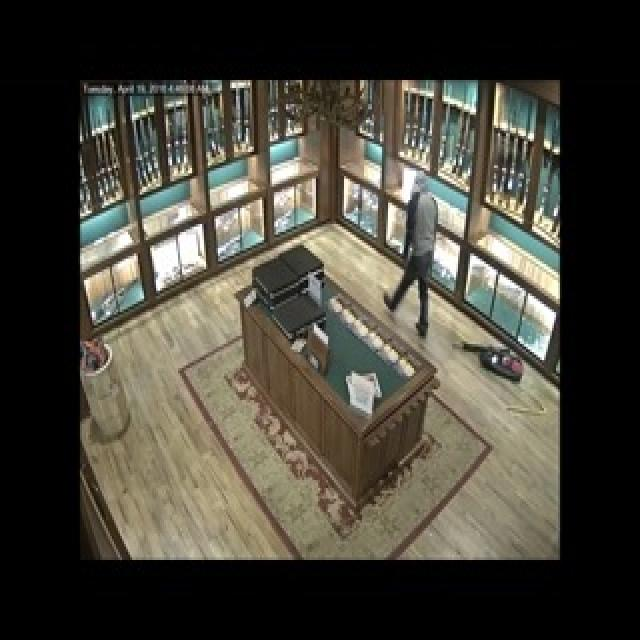thief: (383, 165, 440, 325)
